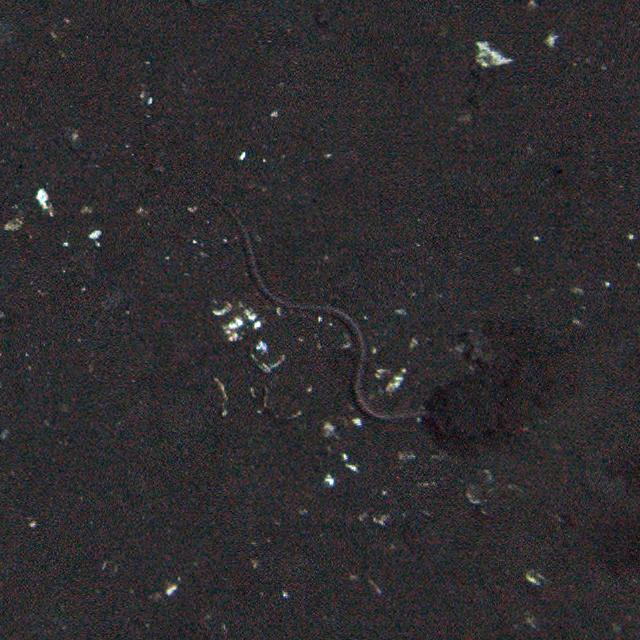eel: (214, 198, 430, 423)
